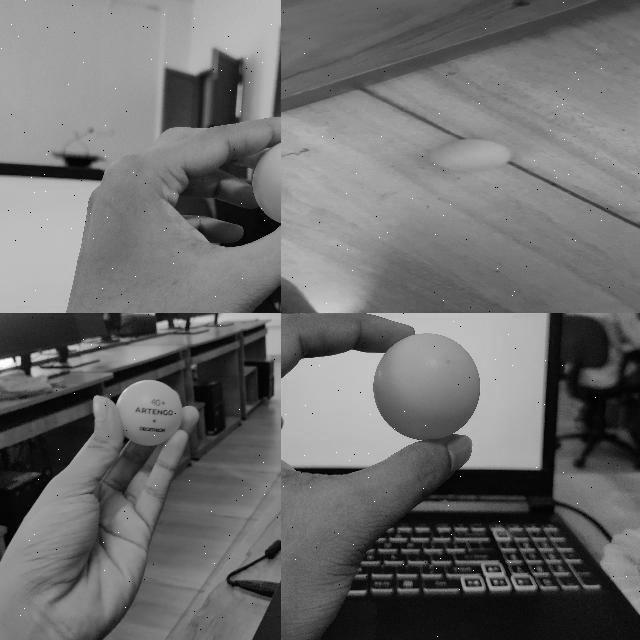ping-pong-ball: (374, 334, 478, 438), (114, 380, 182, 444), (431, 138, 508, 172), (251, 138, 280, 225)
